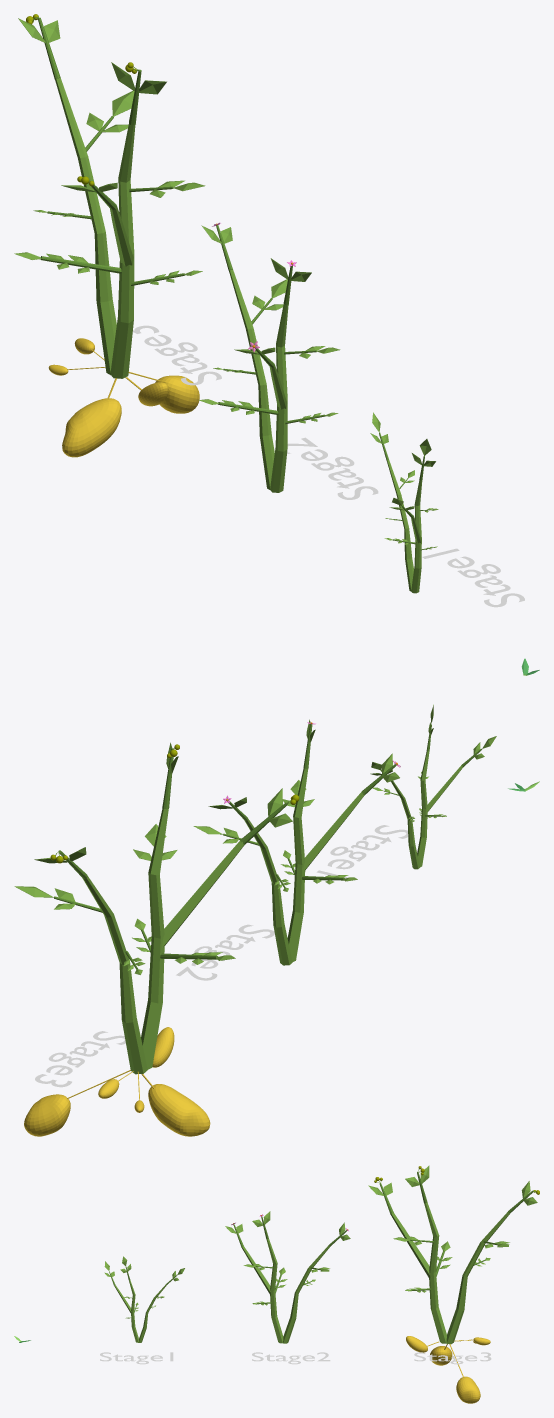
File: Potatos.fbx
3 renders of one model, top to bottom at view 1: azimuth 30°, elevation 25°; view 2: azimuth 150°, elevation 25°; view 3: azimuth 270°, elevation 25°, orthographic. The views are drawn at different scales.
Visible parts, largest first — view 1: Flower.002, Flower.001, Flower, Potato.002, Potato.003, Text.001, Text, Text.002; view 2: Flower.002, Flower.001, Flower, Potato.002, Potato.003, Text.002, Text, Text.001, Potato; view 3: Flower.002, Flower.001, Flower, Potato.003, Text.001, Text.002, Text, Potato.002.
Part boxes in pixels (x1,y1,x2,y2): Flower.002: [14, 17, 205, 378]; Flower.001: [199, 225, 340, 492]; Flower: [370, 412, 438, 593]; Potato.002: [62, 378, 121, 457]; Potato.003: [128, 372, 199, 413]; Text.001: [287, 437, 378, 499]; Text: [422, 548, 524, 607]; Text.002: [132, 325, 221, 385]; Flower.002: [14, 742, 292, 1074]; Flower.001: [193, 719, 399, 965]; Flower: [370, 704, 496, 869]; Potato.002: [141, 1074, 210, 1136]; Potato.003: [24, 1070, 130, 1136]; Text.002: [35, 1031, 125, 1087]; Text: [316, 825, 408, 878]; Text.001: [176, 924, 274, 980]; Potato: [152, 1027, 174, 1067]; Flower.002: [368, 1165, 537, 1344]; Flower.001: [225, 1211, 350, 1343]; Flower: [104, 1256, 184, 1342]; Potato.003: [449, 1344, 480, 1403]; Text.001: [252, 1352, 330, 1364]; Text.002: [414, 1352, 491, 1364]; Text: [100, 1352, 173, 1364]; Potato.002: [430, 1344, 452, 1365].
Size of the model in its own units: 193 by 362 by 815.
